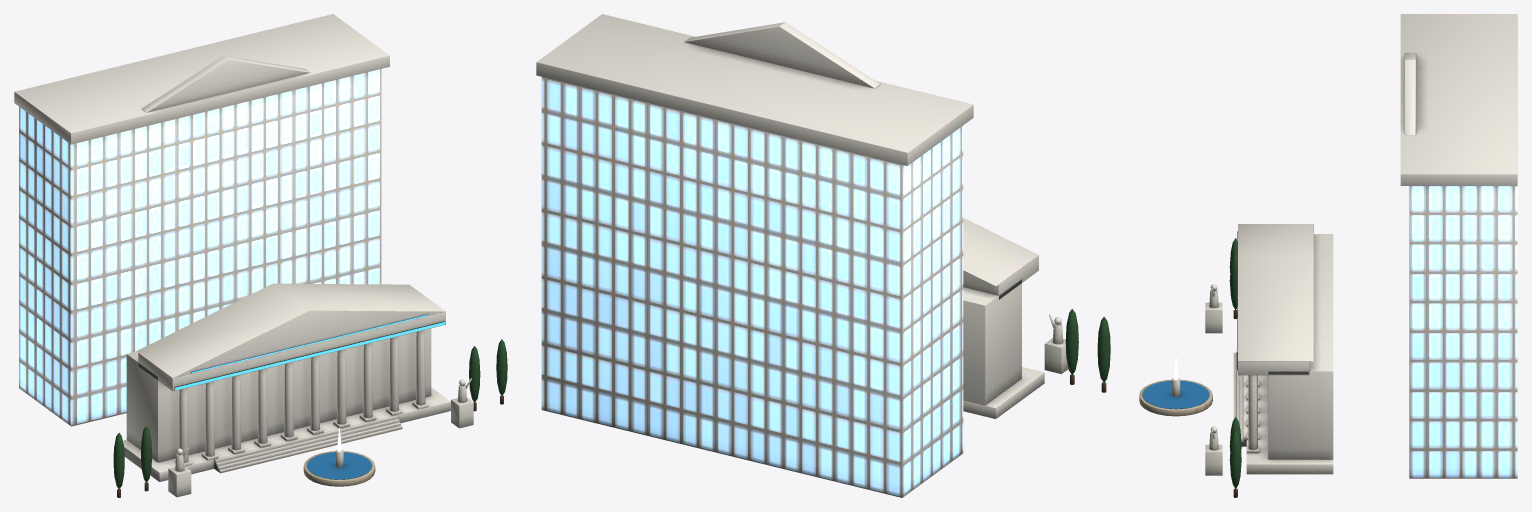
Rendered from cesar.glb.
3 renders of one model, left to right at view 1: azimuth 30°, elevation 25°; view 2: azimuth 150°, elevation 25°; view 3: azimuth 270°, elevation 25°, orthographic. The views are drawn at different scales.
Parts seen in each view (by area): view 1: cesar; view 2: cesar; view 3: cesar.
Boxes of the visible parts, bbox=[...] form: cesar: bbox=[14, 14, 507, 497]; cesar: bbox=[536, 14, 1110, 497]; cesar: bbox=[1139, 14, 1517, 497].
Size of the model in its own units: 43.05 by 34.69 by 34.9.
1 material, 1 textured.
